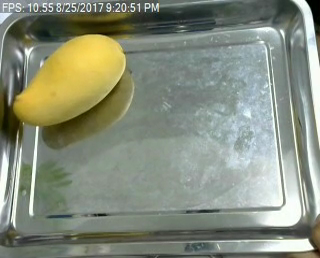Mango: (10, 30, 131, 130)
